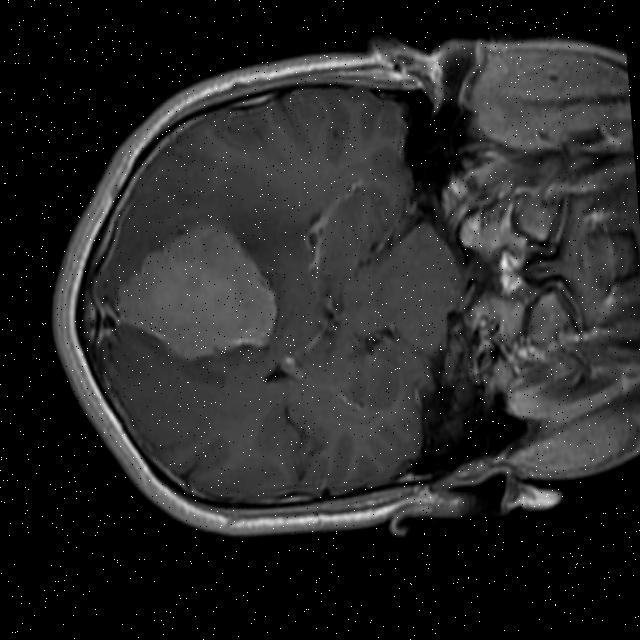Meningioma: (108, 207, 279, 372)
